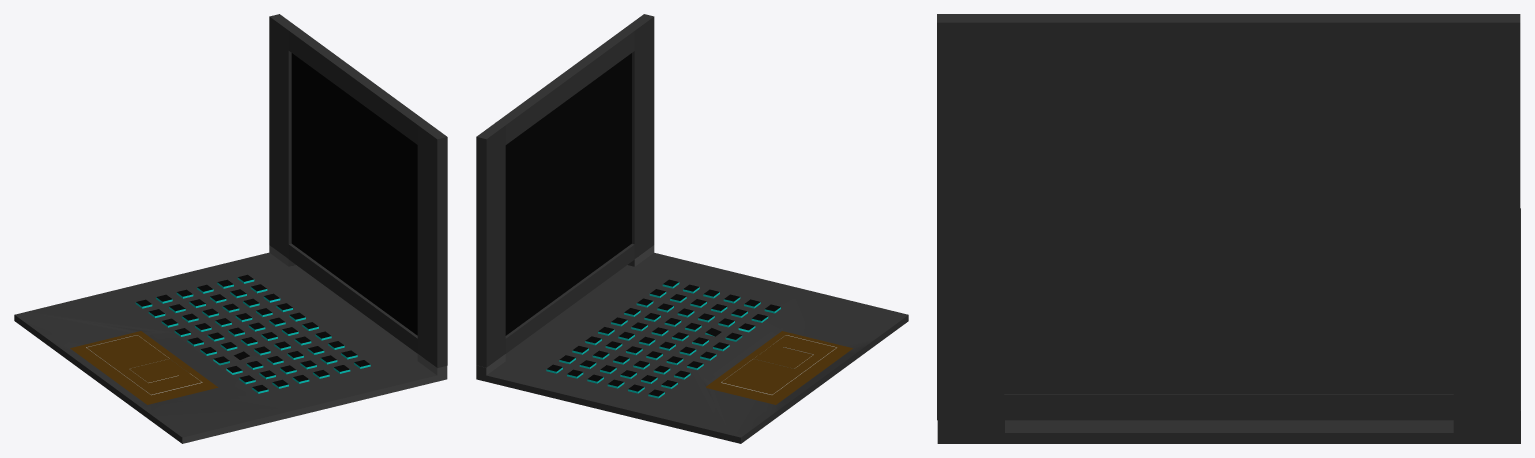
Rendered from SM_Lamptop.fbx.
3 views of the same model, side by side, from view 1: azimuth 30°, elevation 25°; view 2: azimuth 150°, elevation 25°; view 3: azimuth 270°, elevation 25° (orthographic). The views are drawn at different scales.
Visible parts, largest first — view 1: pCube1; view 2: pCube1; view 3: pCube1.
Boxes of the visible parts, left/top/right/bottom form: pCube1: left=14, top=14, right=447, bottom=443; pCube1: left=476, top=14, right=908, bottom=443; pCube1: left=937, top=14, right=1520, bottom=443.
Bounding box in the file's own units: 8.03 × 7.01 × 8.8.
